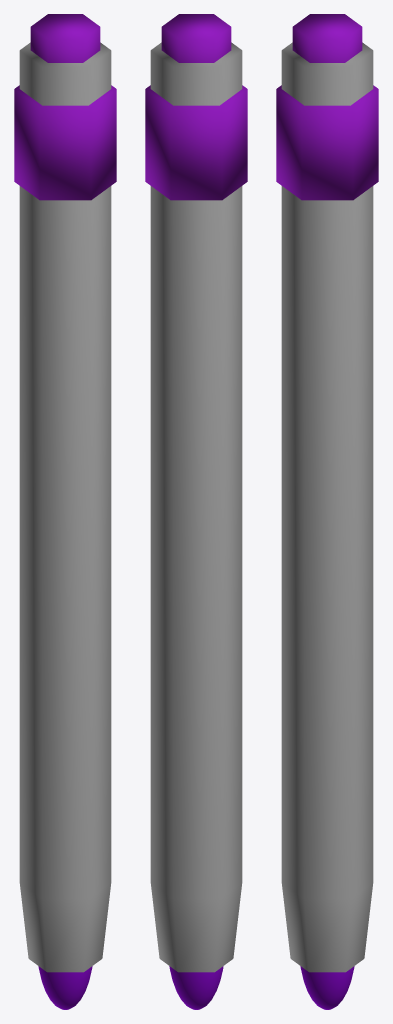
File: Marker.glb
The picture shows the model from 3 angles, left to right: view 1: azimuth 90°, elevation 25°; view 2: azimuth 150°, elevation 25°; view 3: azimuth 270°, elevation 25°; orthographic projection.
Parts seen in each view (by area): view 1: Cylinder, Cylinder.001, Cylinder.002, Sphere; view 2: Cylinder, Cylinder.001, Cylinder.002, Sphere; view 3: Cylinder, Cylinder.001, Cylinder.002, Sphere.
Boxes of the visible parts, bbox=[...] form: Cylinder: bbox=[19, 42, 111, 972]; Cylinder.001: bbox=[14, 85, 116, 200]; Cylinder.002: bbox=[30, 14, 100, 62]; Sphere: bbox=[38, 966, 92, 1009]; Cylinder: bbox=[150, 42, 242, 972]; Cylinder.001: bbox=[145, 85, 247, 200]; Cylinder.002: bbox=[161, 14, 231, 62]; Sphere: bbox=[169, 966, 223, 1009]; Cylinder: bbox=[281, 42, 373, 972]; Cylinder.001: bbox=[276, 85, 378, 200]; Cylinder.002: bbox=[292, 14, 362, 62]; Sphere: bbox=[300, 966, 354, 1009].
Size of the model in its own units: 0.1932 by 2.36 by 0.223.
